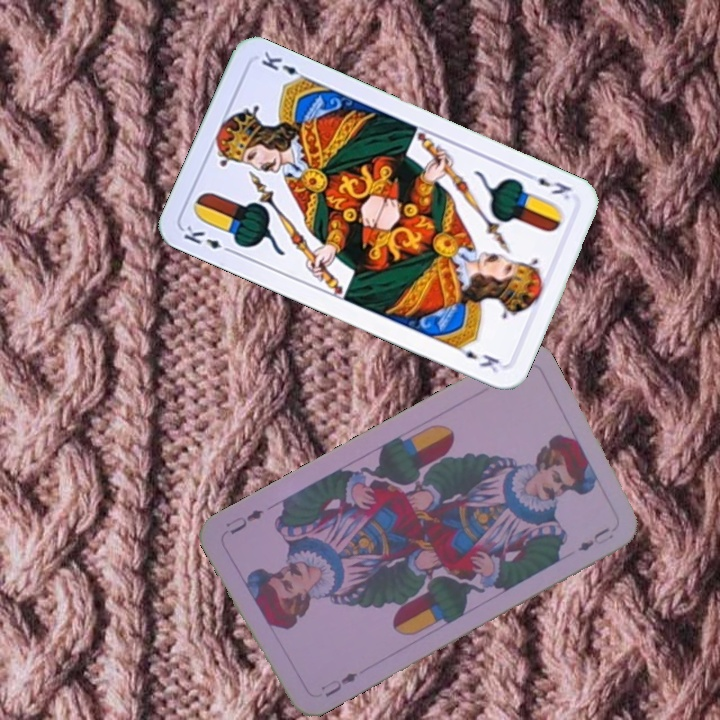EK: (179, 221, 237, 257), (521, 168, 574, 202)
EU: (316, 668, 360, 700)
